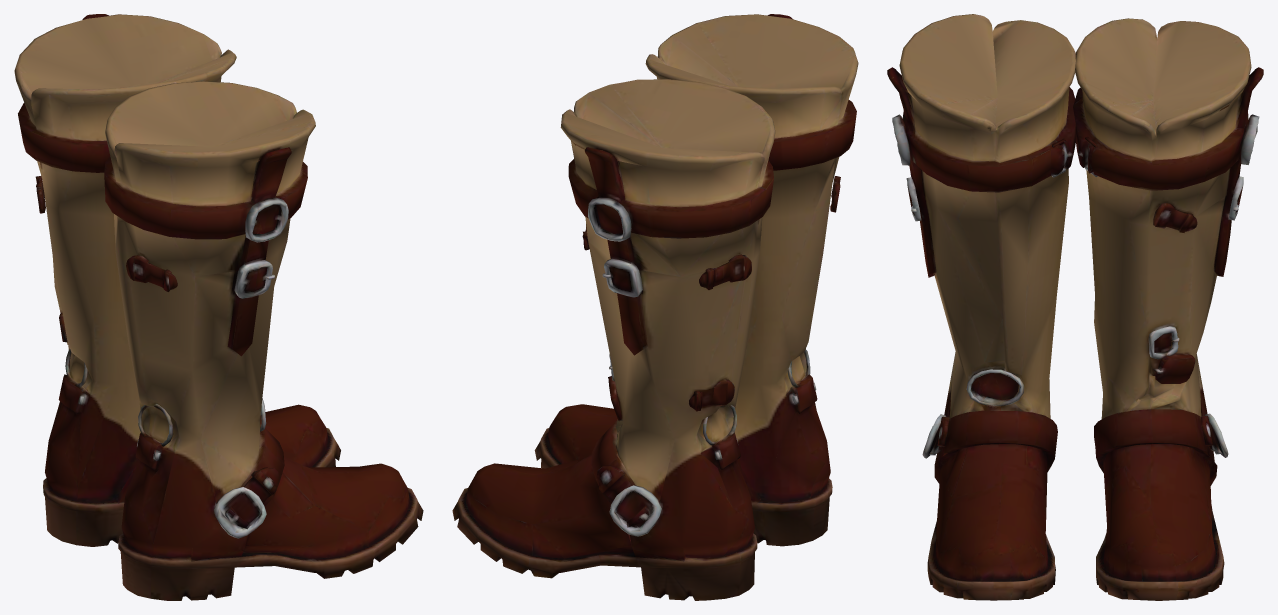
The model's file is default_boots.glb.
3 views of the same model, side by side, from view 1: azimuth 30°, elevation 25°; view 2: azimuth 150°, elevation 25°; view 3: azimuth 270°, elevation 25° (orthographic).
Visible parts, largest first — view 1: tripo_node_3d9b223f-76b6-4295-b58d-a0f4f876c0a0; view 2: tripo_node_3d9b223f-76b6-4295-b58d-a0f4f876c0a0; view 3: tripo_node_3d9b223f-76b6-4295-b58d-a0f4f876c0a0.
Boxes of the visible parts, x1,y1,x2,y2 form: tripo_node_3d9b223f-76b6-4295-b58d-a0f4f876c0a0: (14,14,423,600); tripo_node_3d9b223f-76b6-4295-b58d-a0f4f876c0a0: (452,14,858,600); tripo_node_3d9b223f-76b6-4295-b58d-a0f4f876c0a0: (887,14,1263,600).
Size of the model in its own units: 0.6973 by 0.998 by 0.7324.
1 material, 1 textured.
